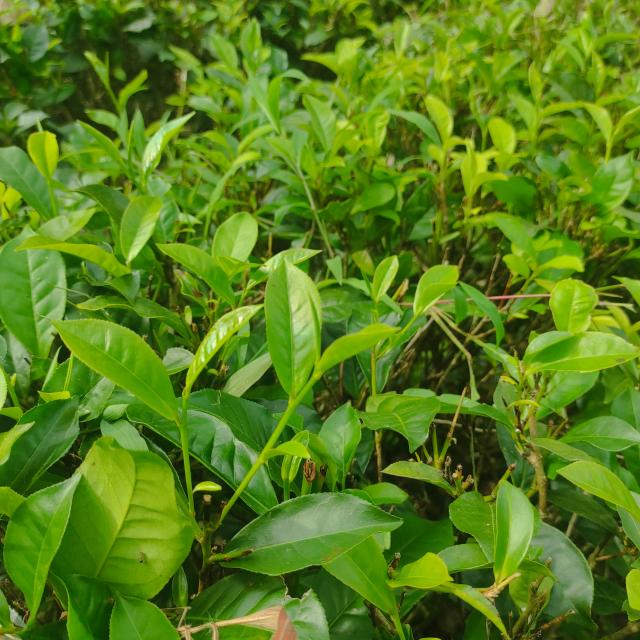unopened_leaf: (302, 281, 325, 365), (120, 112, 139, 178), (58, 350, 78, 394), (358, 261, 378, 301), (101, 44, 113, 80)
